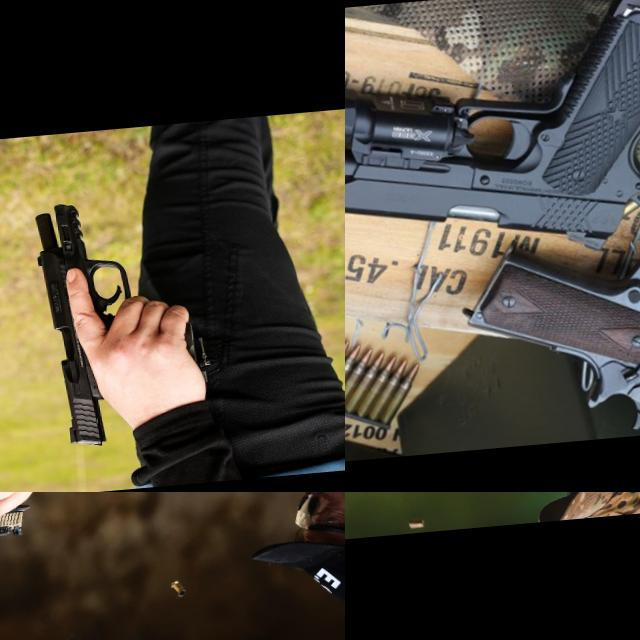handgun: (345, 0, 640, 281), (449, 119, 640, 446), (27, 194, 145, 452), (0, 492, 85, 559), (345, 492, 418, 527)
